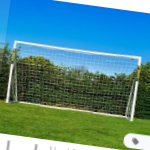goals: (6, 40, 142, 123)
